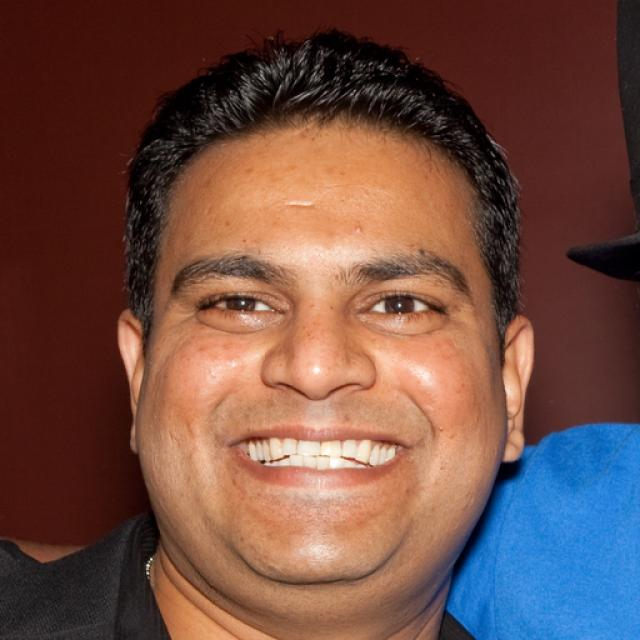Acne: (348, 223, 365, 236)
Dark Circle: (196, 312, 284, 334), (356, 317, 445, 338)
